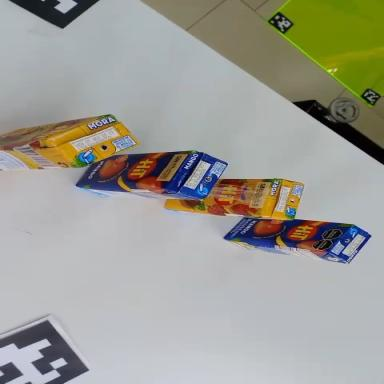HIT-MANGO: (224, 207, 372, 267), (76, 144, 228, 202)
HIT-MORA: (0, 111, 140, 178), (165, 177, 304, 223)
cara_F: (223, 213, 353, 254), (0, 105, 112, 151), (75, 151, 193, 191), (165, 179, 274, 216)
